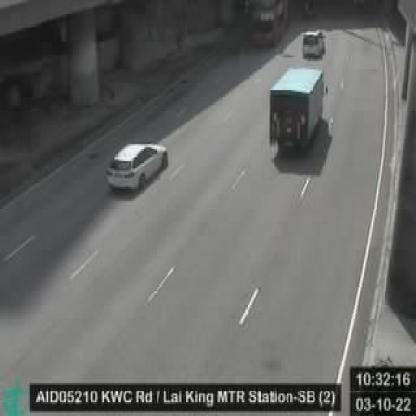Car: (107, 139, 166, 187), (302, 28, 324, 55)
Truck: (268, 66, 322, 152)
